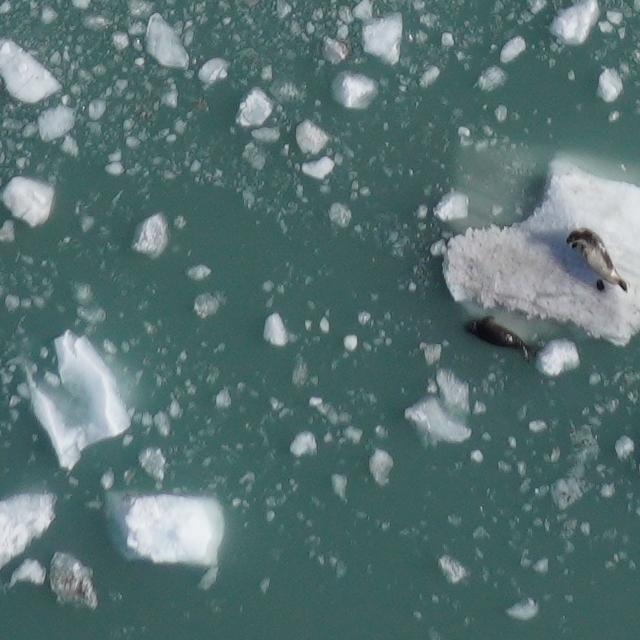seal: (561, 222, 633, 297), (459, 312, 547, 367)
